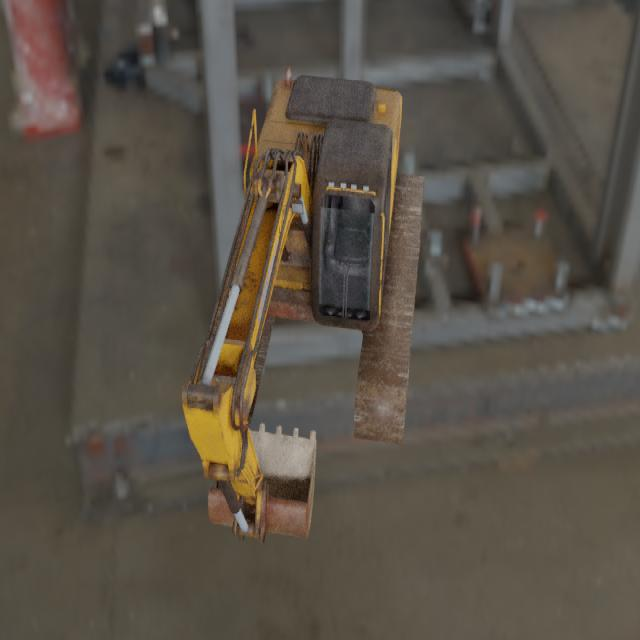excavator: (182, 65, 424, 544)
